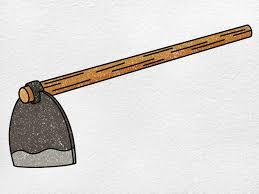HOUE: (6, 16, 255, 194)
